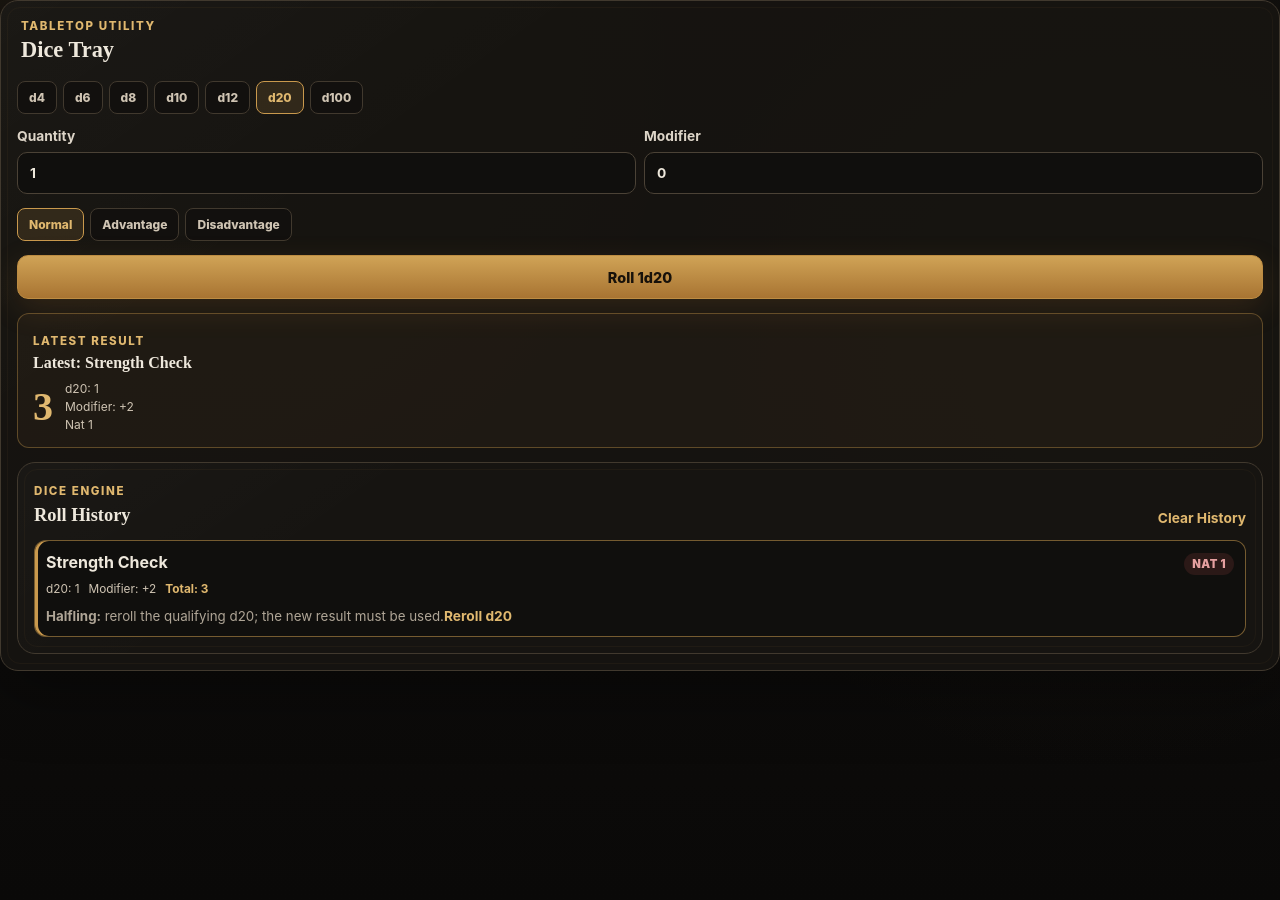
Scenario: M13E compact optional-transformation UI › consumes the optional transformation even when the mandatory replacement is another qualifying 1
The image size is (1280, 900).
Click the button "Reroll d20".
click(478, 616)  # box [444,608,512,624]
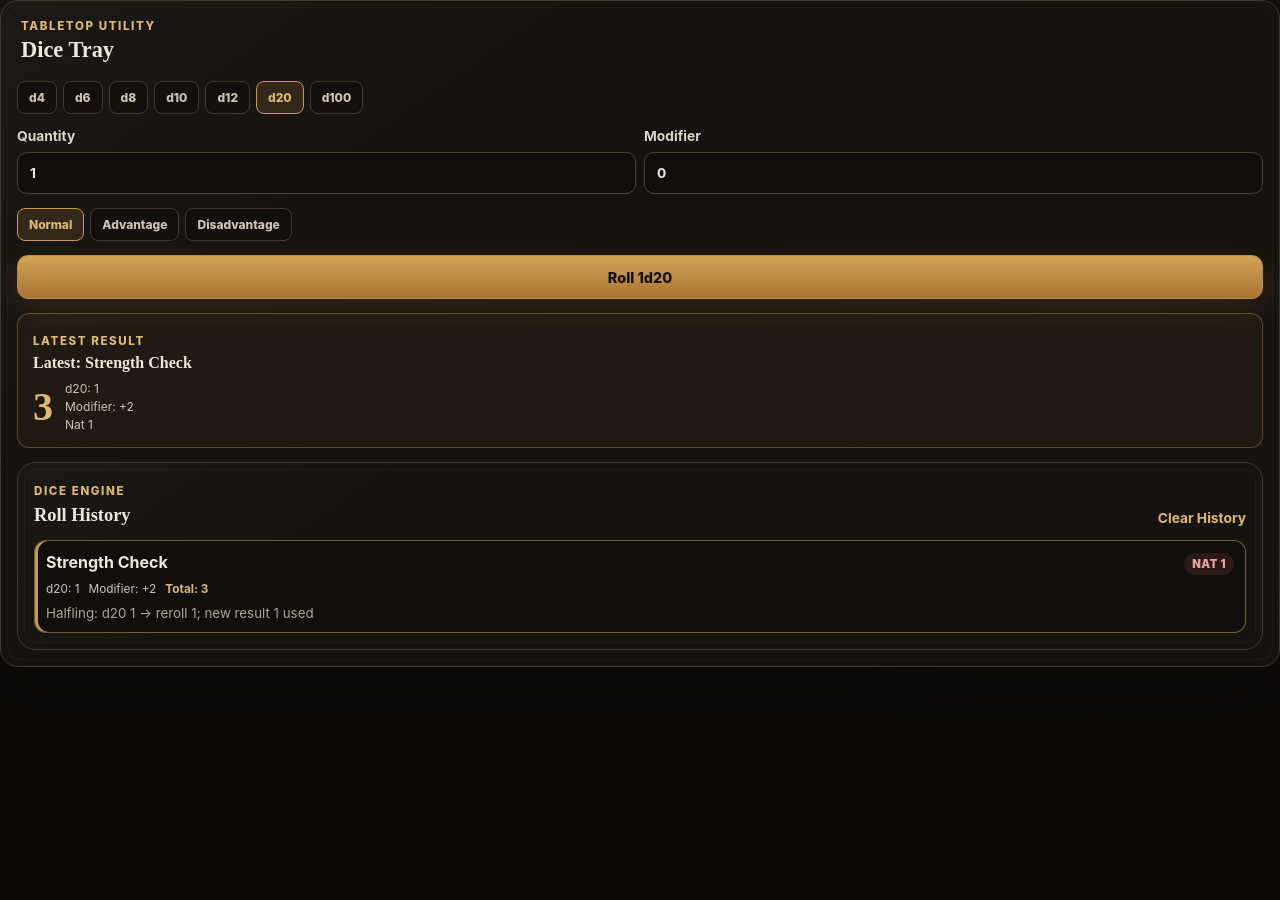
Expected: the button "Reroll d20" is gone
Expected: the text "Halfling: d20 1 → reroll 1; new result 1 used" is shown, [46,605,314,621]
